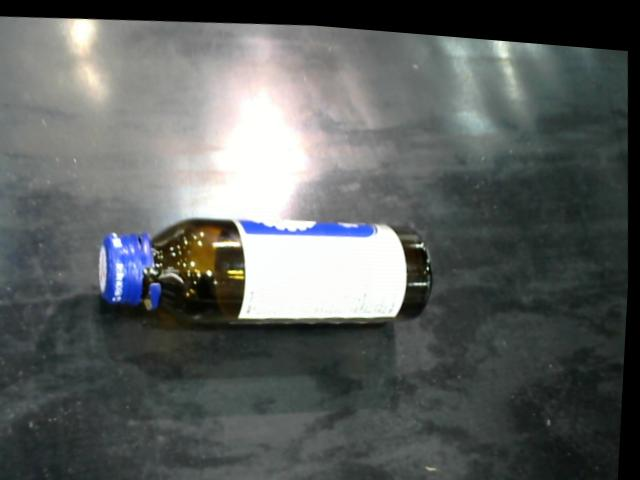glass: (97, 205, 445, 331)
